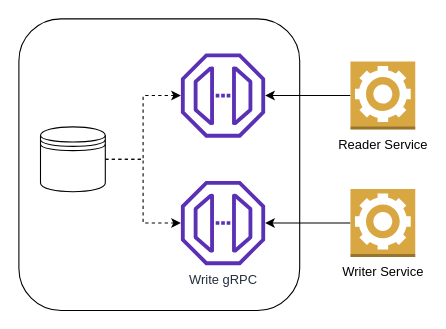
This 446x329 diagram has some shape labels left out. Here are the shapes that lost their labels. From the top down, the centre of each, then its label:
At point 222,95: "Read gRPC".
At point 72,159: "Database Service".
